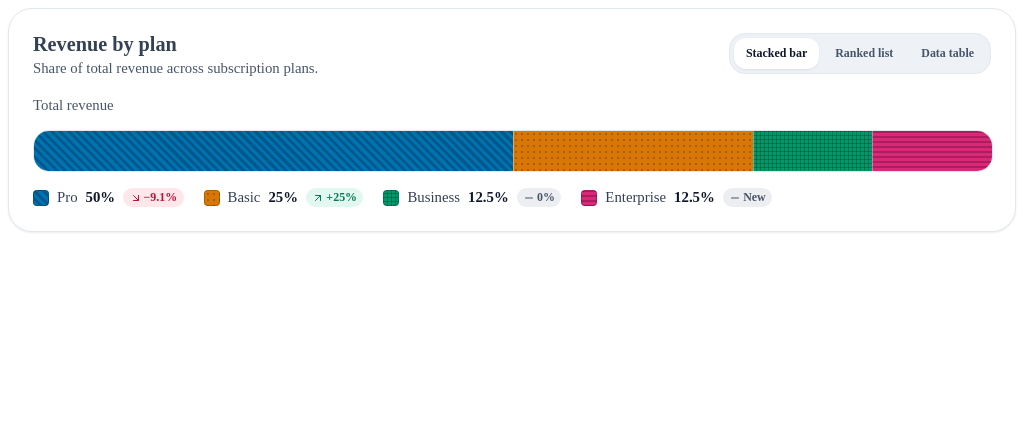
Test: RevenueSplitByPlanPanel › switches to ranked list and data table
The width and height of the screenshot is (1024, 445).
Click the button "Ranked list".
click(864, 54)  # box [823,38,905,69]
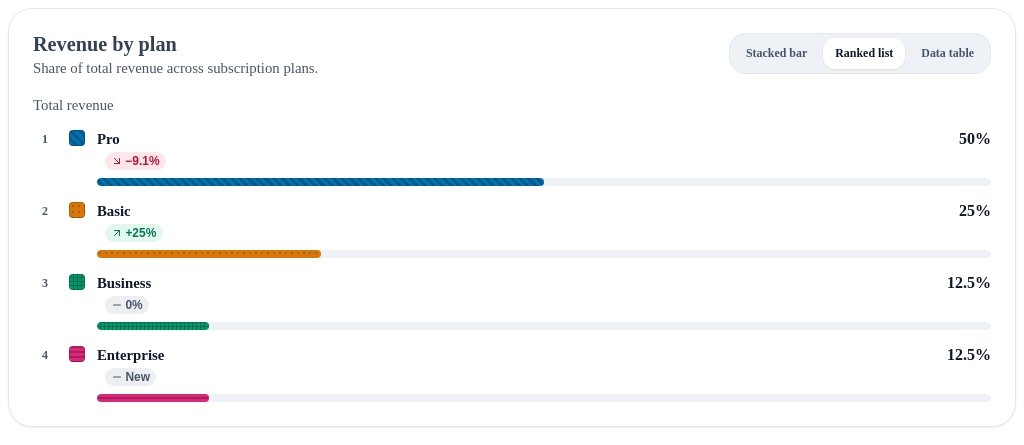
Expected: the text "Pro" is shown, [97,131,120,148]
Expected: the button "Ranked list" is pressed, [823,38,905,69]
Click the button "Data table".
click(948, 54)  # box [909,38,986,69]
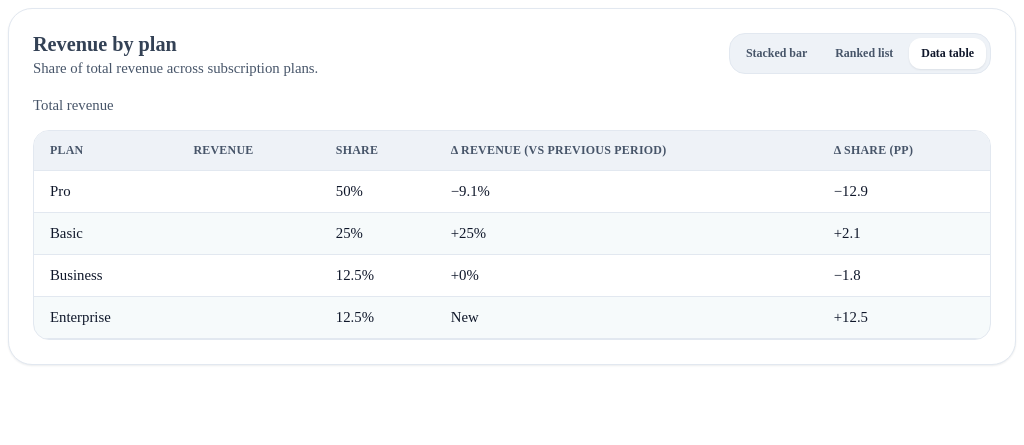
Expected: the column heading "Enterprise" is shown, [34,296,177,338]
Expected: the table is shown, [34,131,990,339]
